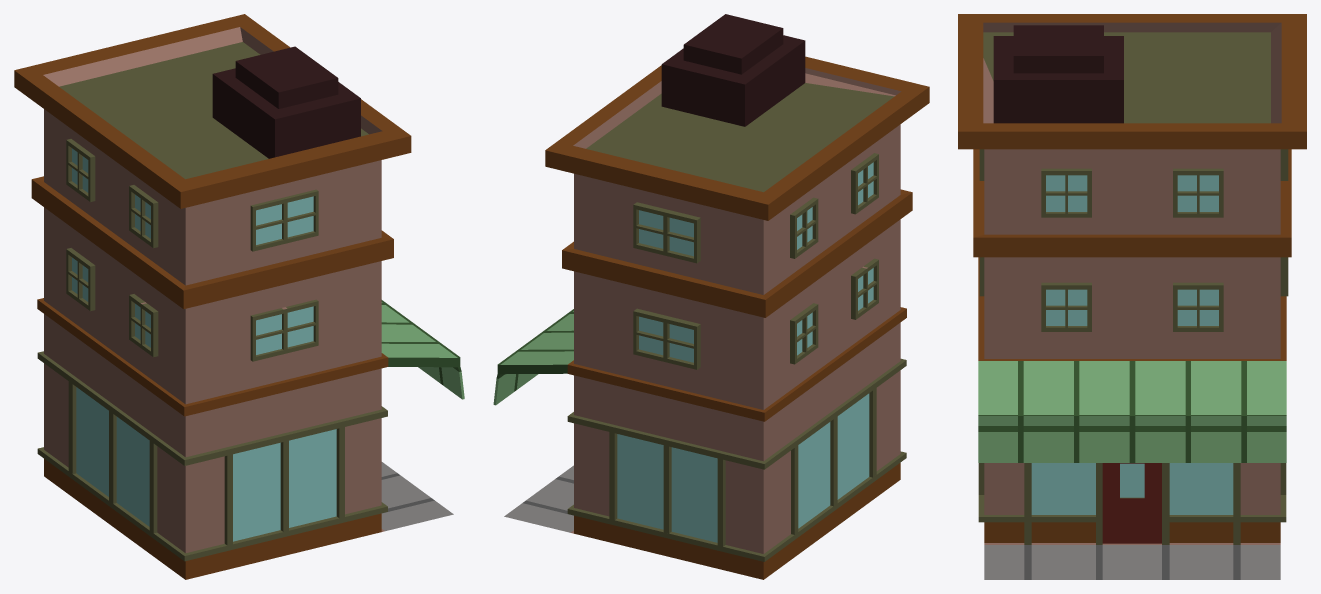
Rendered from 3rd_floor_building.fbx.
The picture shows the model from 3 angles, left to right: view 1: azimuth 30°, elevation 25°; view 2: azimuth 150°, elevation 25°; view 3: azimuth 270°, elevation 25°; orthographic projection. The views are drawn at different scales.
Visible parts, largest first — view 1: Cube; view 2: Cube; view 3: Cube.
Part boxes in pixels (left/top/right/bottom): Cube: left=14, top=14, right=464, bottom=579; Cube: left=493, top=14, right=929, bottom=579; Cube: left=958, top=14, right=1306, bottom=579.
Size of the model in its own units: 11977 by 17569 by 11763.
